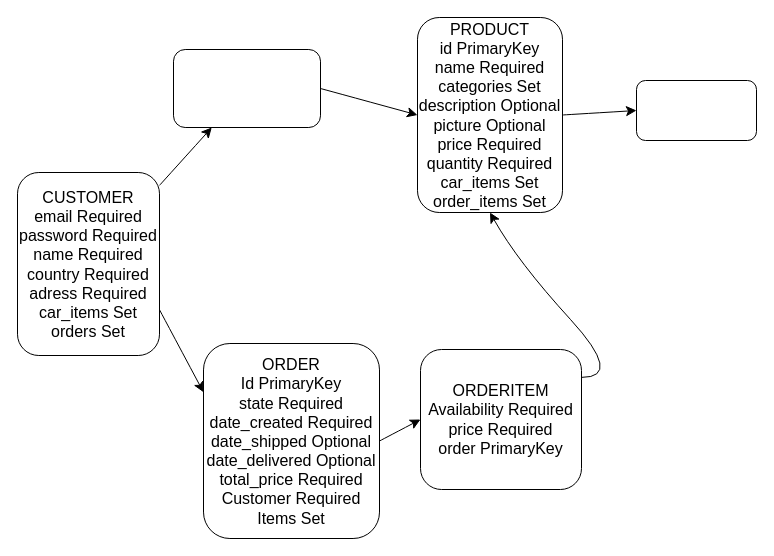
Image size: 774x556. Some labels were removed from this diagram. The shapes that lost their labels are listed below. From the top down, each one's box as (x1, y1, x2, y2) in pixels, then its label:
(172, 48, 320, 128): CARITEM Availability Required Customer Required
(636, 80, 756, 140): CATEGORY name Required products Set
